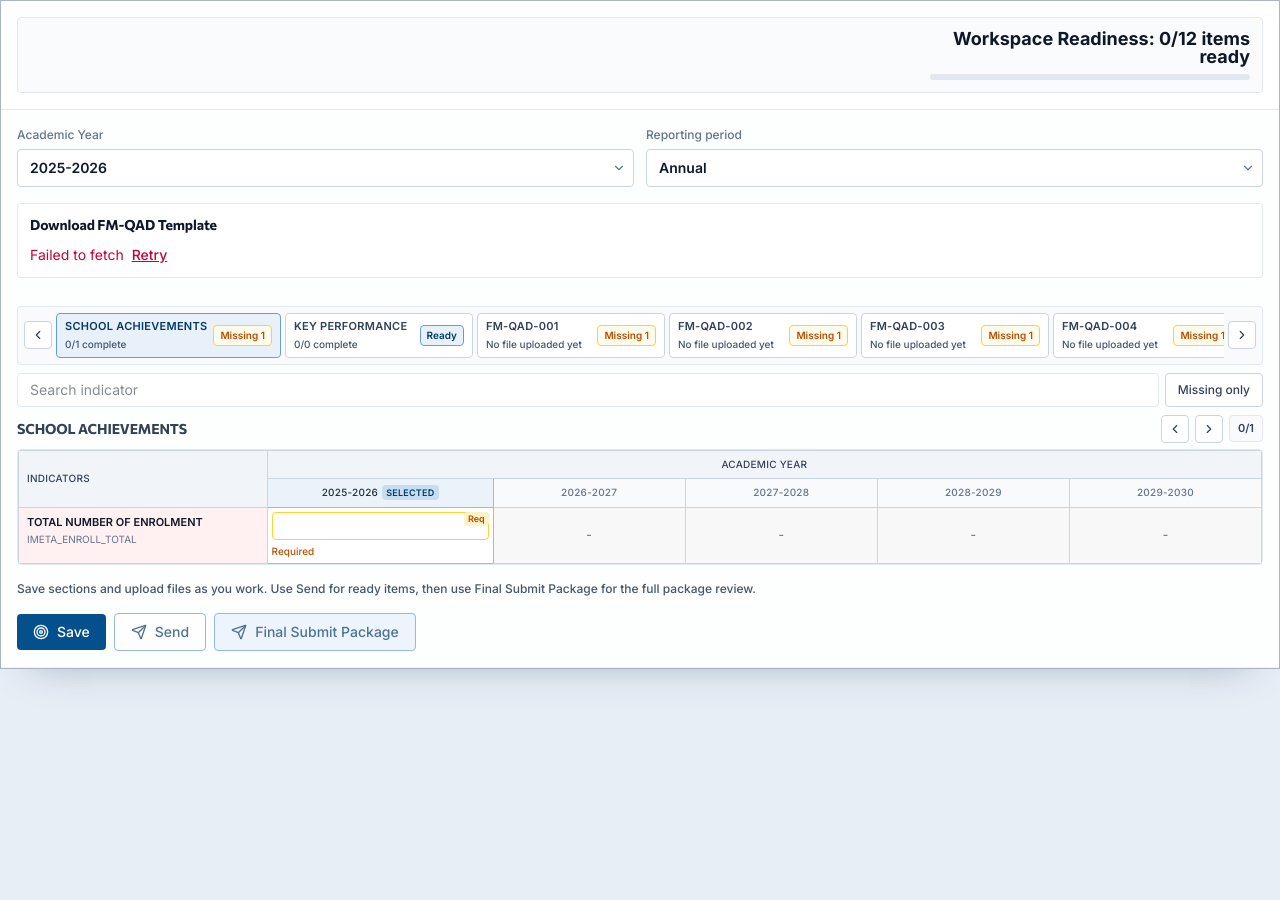
Test case: SchoolIndicatorPanel batch submit › shows safe service-unavailable copy when School Head save receives a raw 503
In the number field: (380, 526) left=272, top=512, right=489, bottom=540, type "2024"
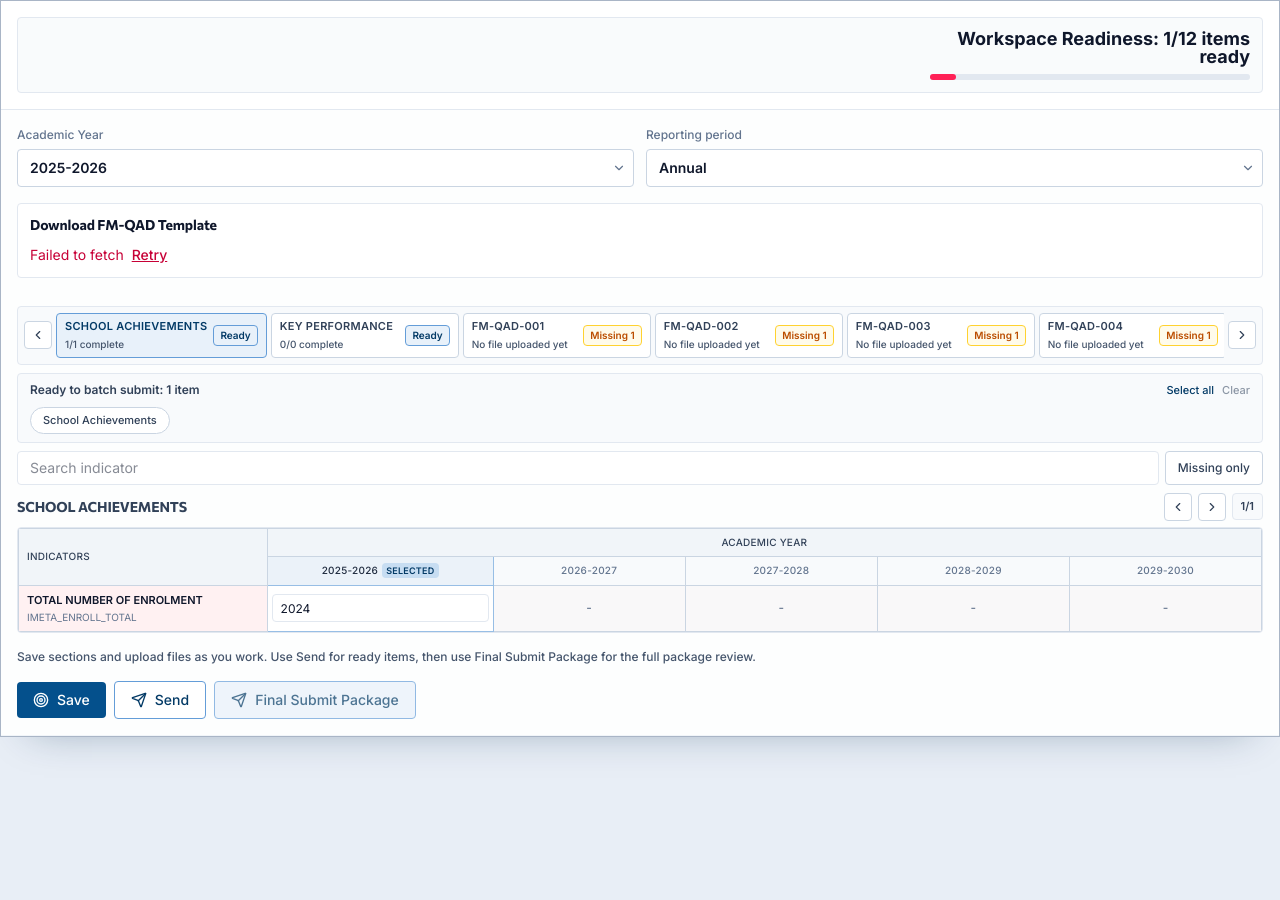
Click the button "Save": (61, 700) left=17, top=682, right=106, bottom=718
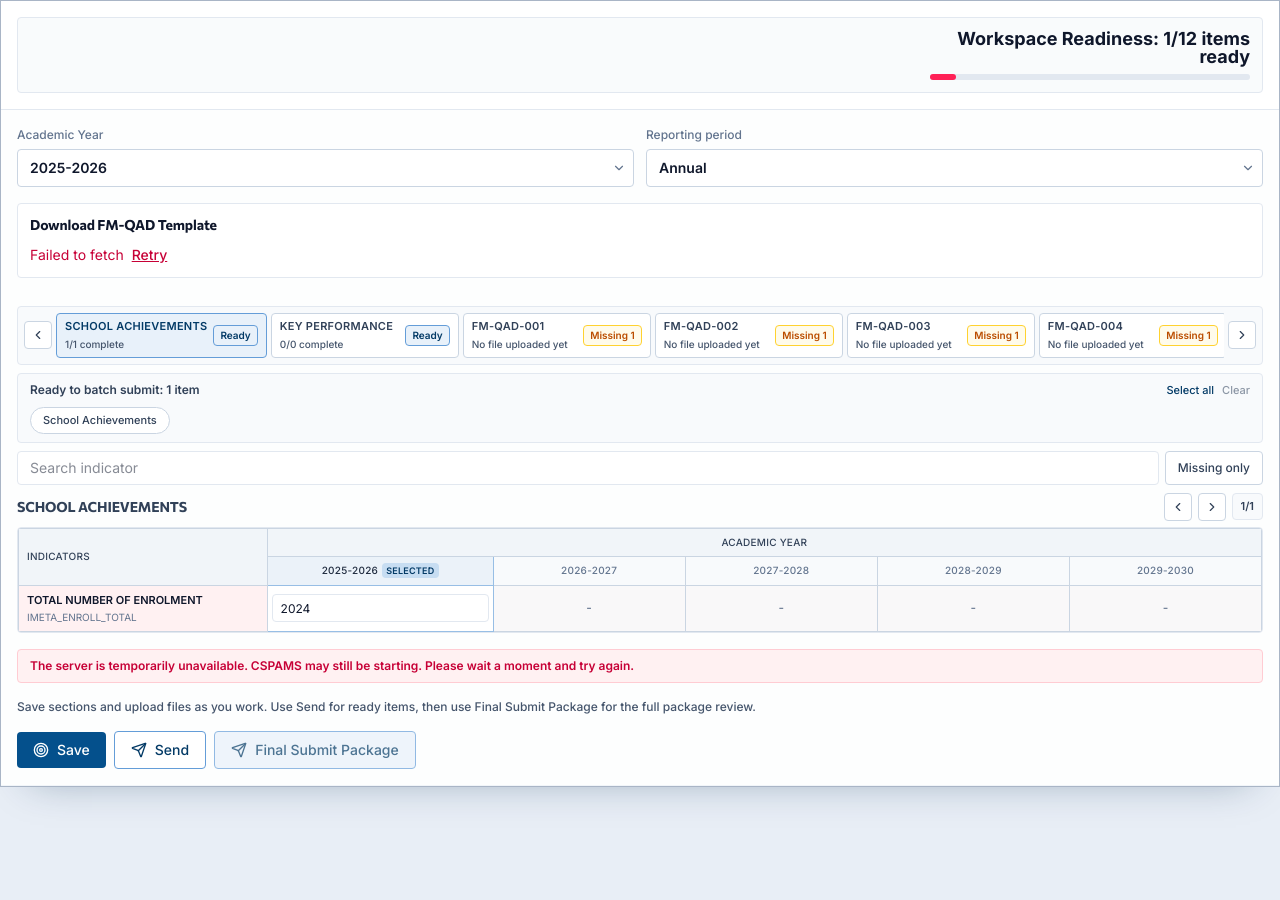
Expected: the text "The server is temporarily unavailable. CSPAMS may still be starting. Please wait a moment and try again." is shown, left=30, top=658, right=634, bottom=673
